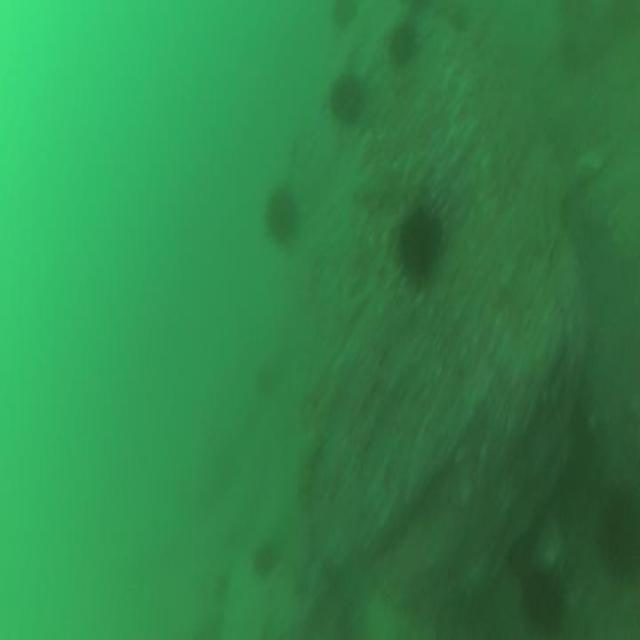echinus: (394, 192, 444, 288), (518, 550, 570, 638), (264, 182, 304, 251), (327, 66, 368, 133), (382, 13, 422, 79)
holothurian: (294, 420, 326, 520)
